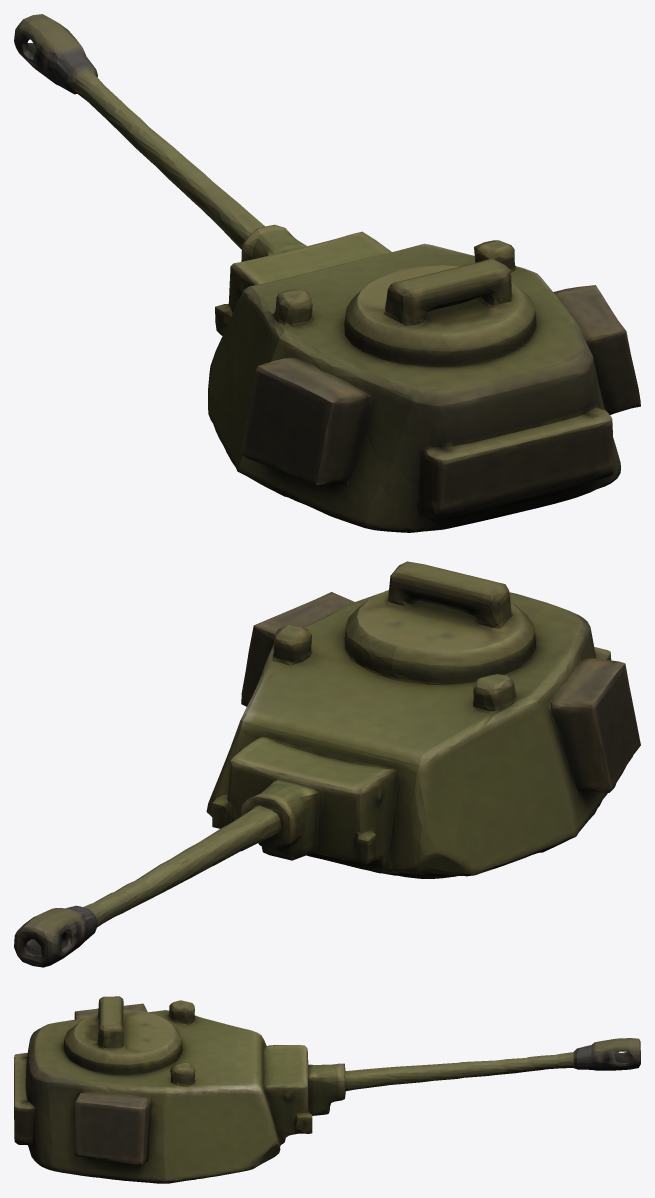
File: m24_chaffee_turret.glb
The picture shows the model from 3 angles, top to bottom: view 1: azimuth 30°, elevation 25°; view 2: azimuth 150°, elevation 25°; view 3: azimuth 270°, elevation 25°; orthographic projection. The views are drawn at different scales.
Visible parts, largest first — view 1: turret; view 2: turret; view 3: turret.
Part boxes in pixels (<box>): turret: <box>14,14,640,532</box>; turret: <box>14,561,640,967</box>; turret: <box>14,996,640,1183</box>.
Size of the model in its own units: 0.3211 by 0.159 by 0.7414.
2 materials, 2 textured.
